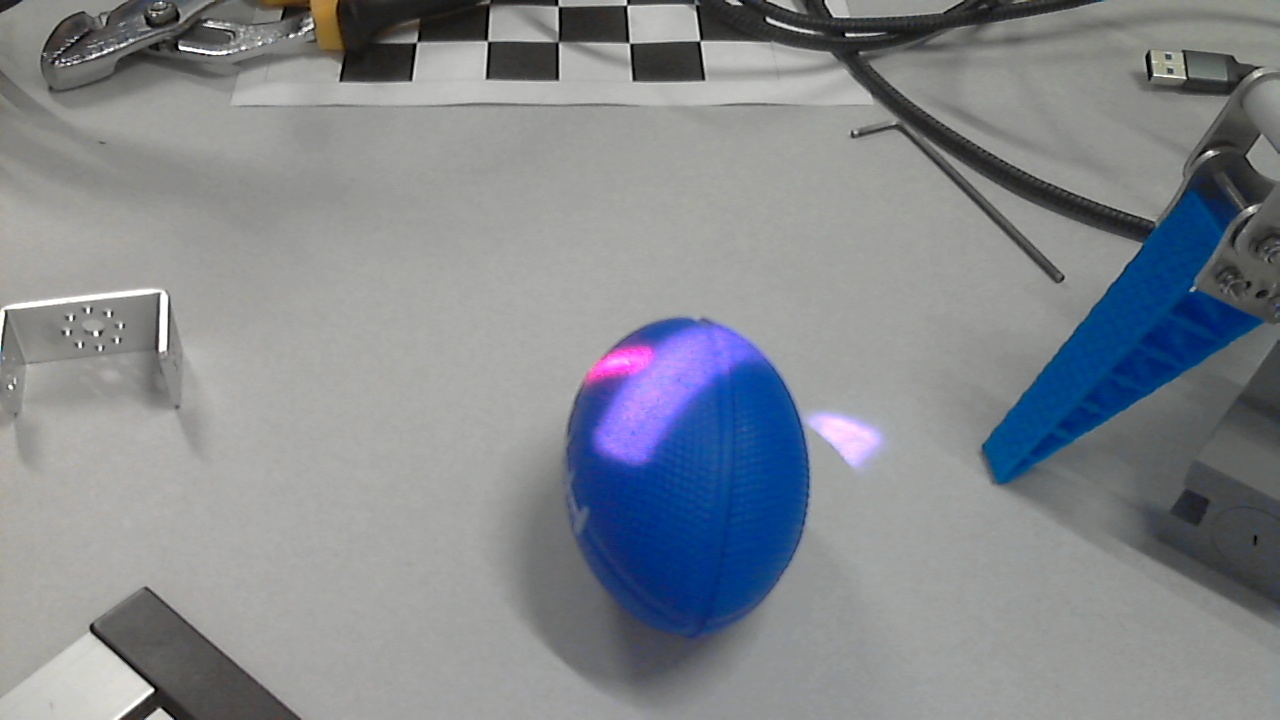Object toy football - Material foam - Color blue - Pdfname VT1ffZoLOnKv: (585, 325, 748, 469)
